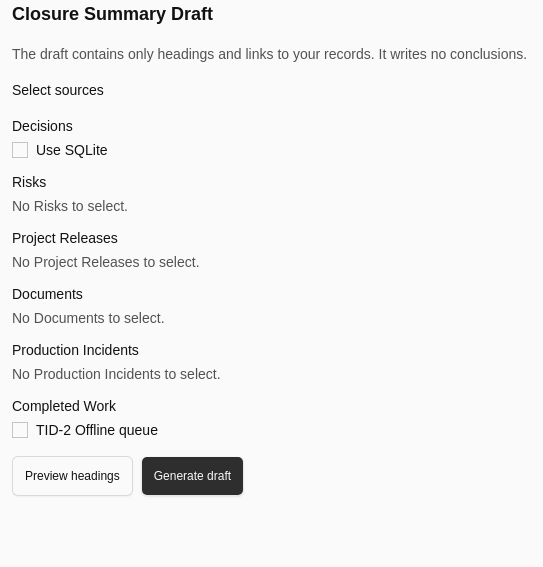
Scenario: previews which source lands under which heading
Click the checkbox labelled "TID-2 Offline queue": (97,430) top-left (36, 420), bottom-right (158, 440)
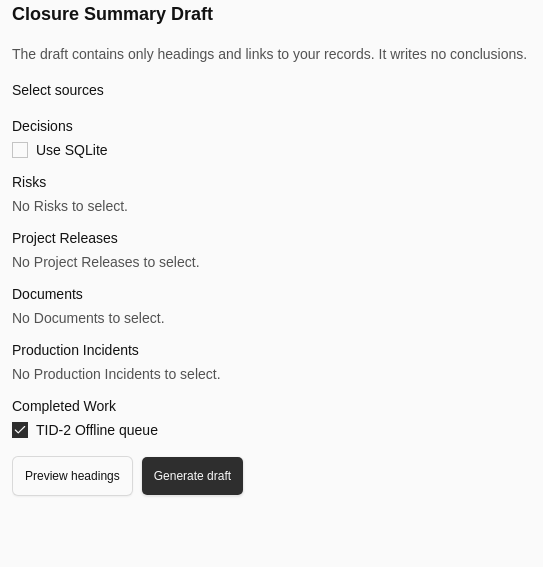
Click the button "Preview headings": (72,476) top-left (12, 456), bottom-right (133, 496)
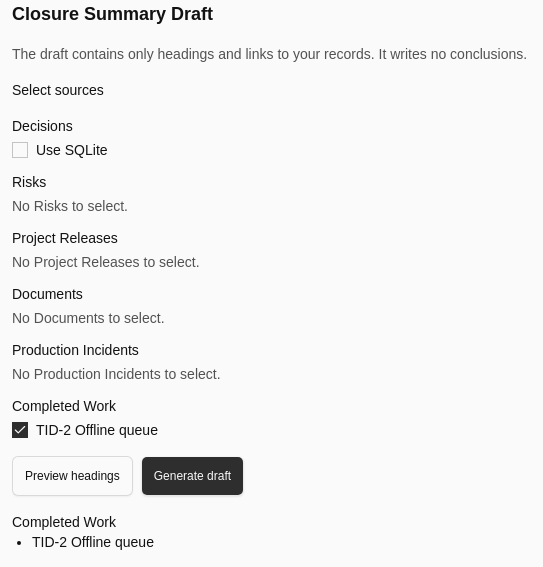
Result: the list named "Heading preview" reads "Completed Work TID-2 Offline queue" at top-left (12, 514), bottom-right (154, 550)
